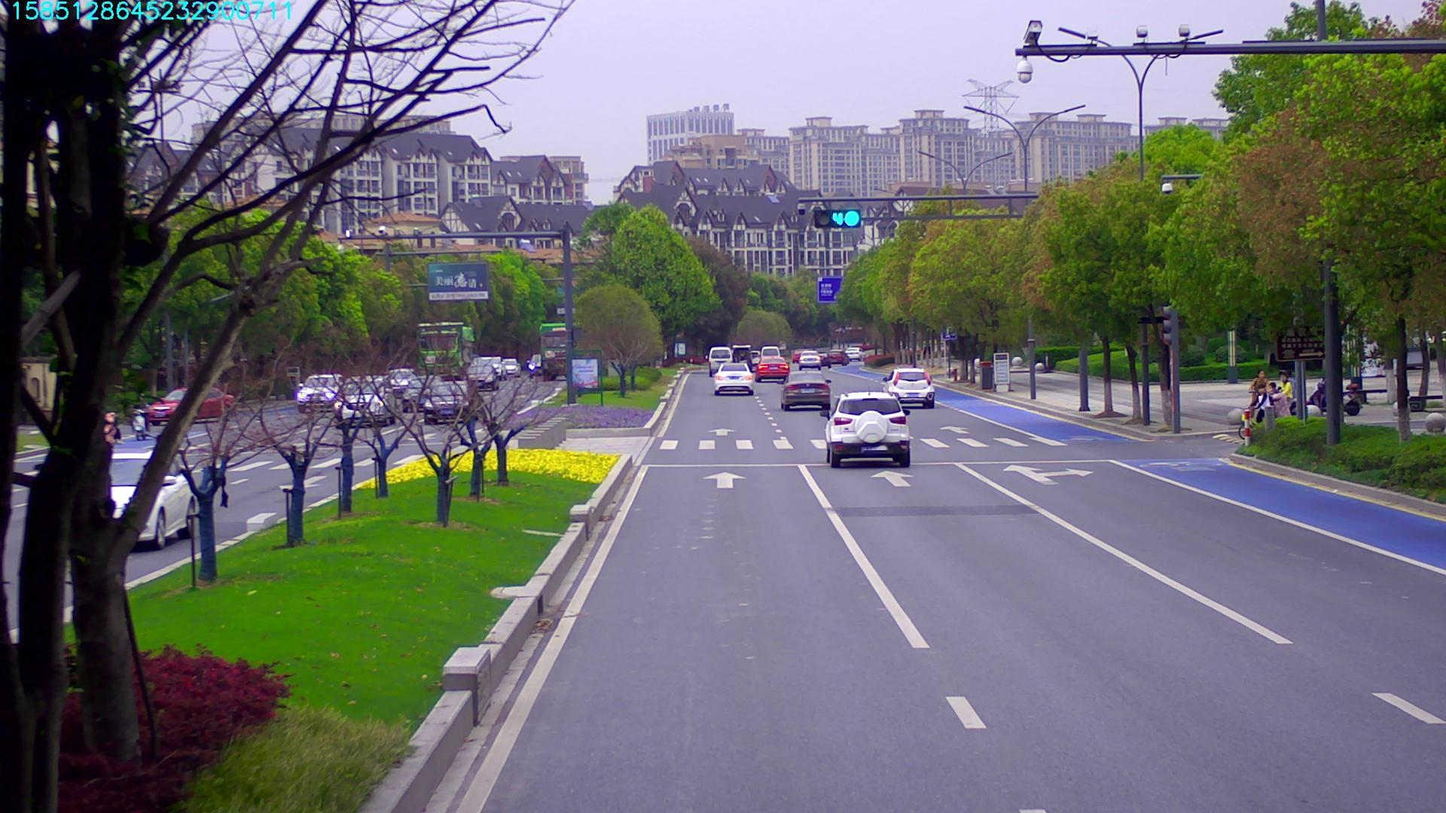green: (815, 209, 860, 230)
